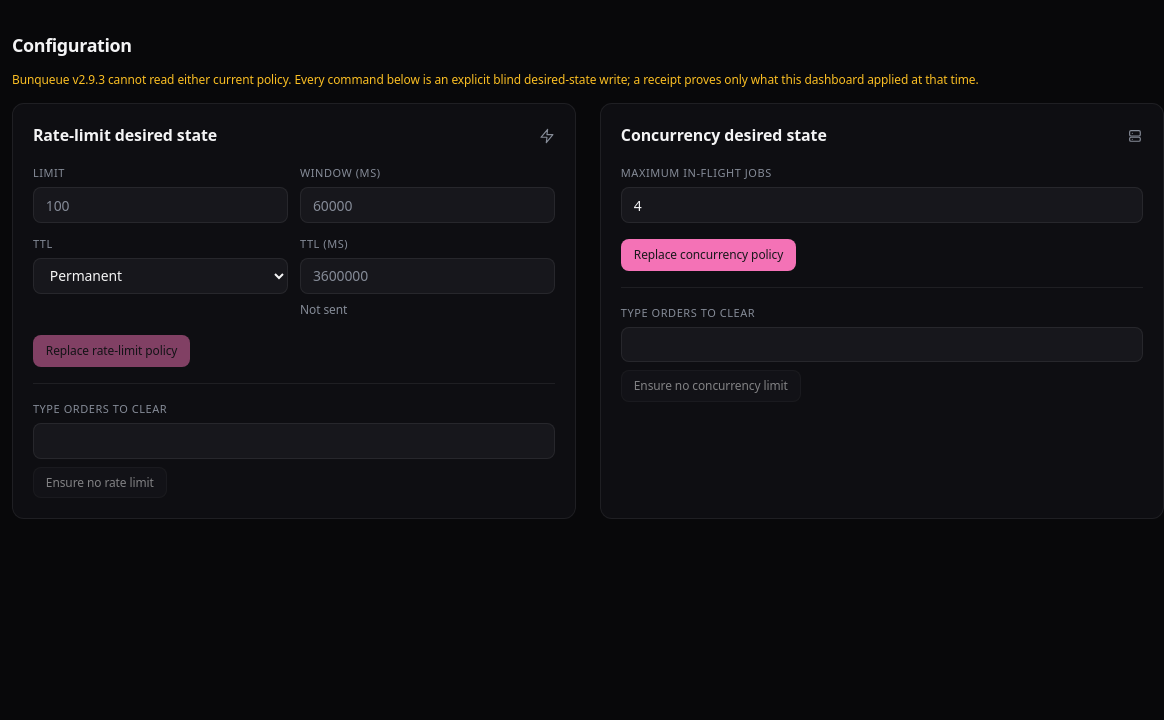
classic QueueConfig desired-state writes › a malformed ACK shows an error and never creates a receipt
This screenshot has width=1164, height=720.
Click the button "Replace concurrency policy" at (708, 255), box [621,239,796,271]
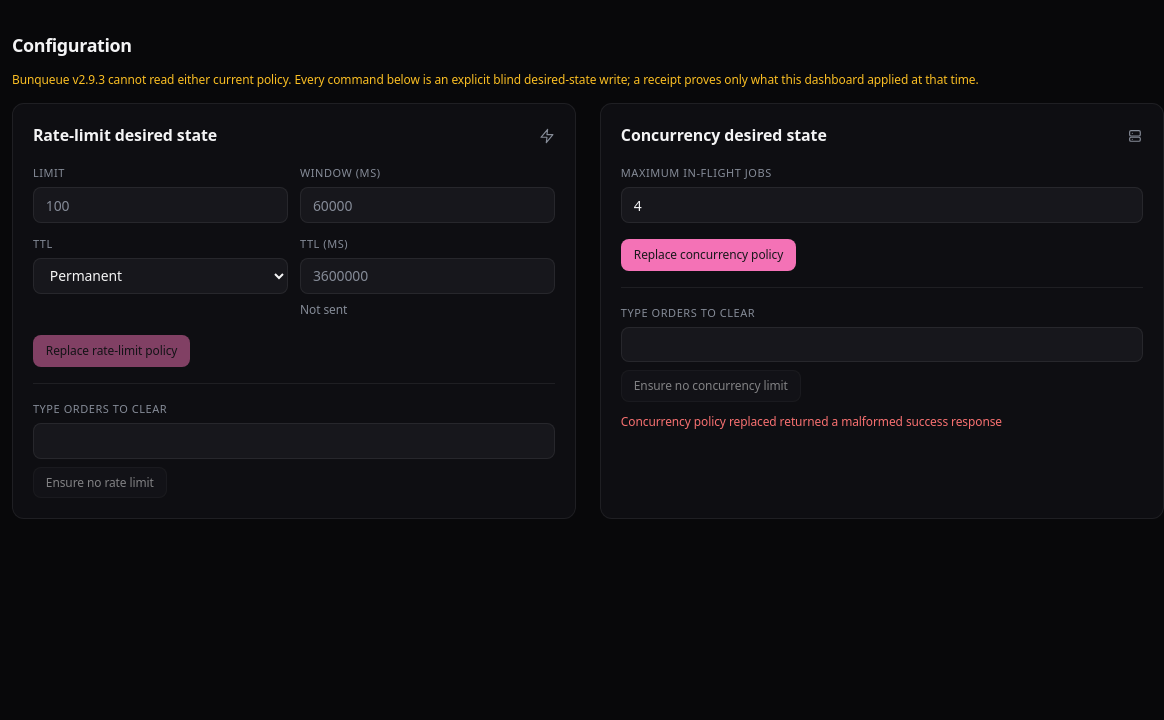
Result: the message "Concurrency policy replaced returned a malformed success response" is shown at [621,413,1002,429]
